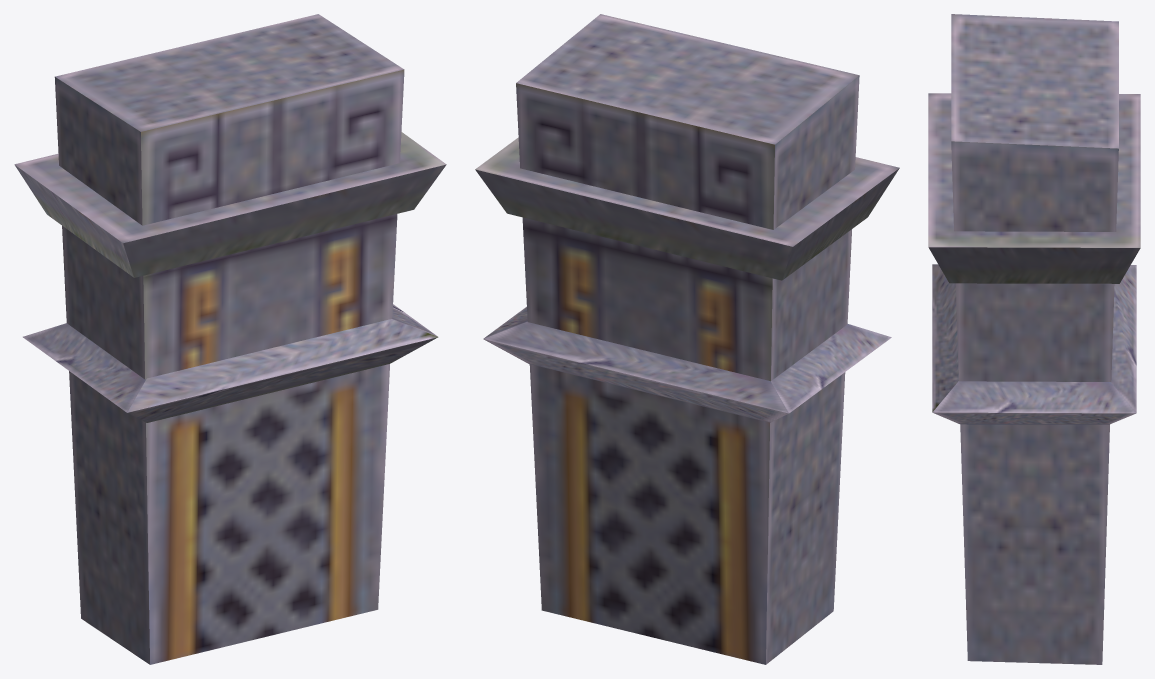
The model's file is fb_lianhuachi_qiangbi.FBX.
3 views of the same model, side by side, from view 1: azimuth 30°, elevation 25°; view 2: azimuth 150°, elevation 25°; view 3: azimuth 270°, elevation 25° (orthographic). The views are drawn at different scales.
Parts seen in each view (by area): view 1: Object08; view 2: Object08; view 3: Object08.
Part boxes in pixels (x1=…): Object08: x1=14, y1=14, x2=446, y2=664; Object08: x1=475, y1=14, x2=899, y2=664; Object08: x1=928, y1=14, x2=1140, y2=664.
Size of the model in its own units: 9.8 by 15.86 by 5.71.
